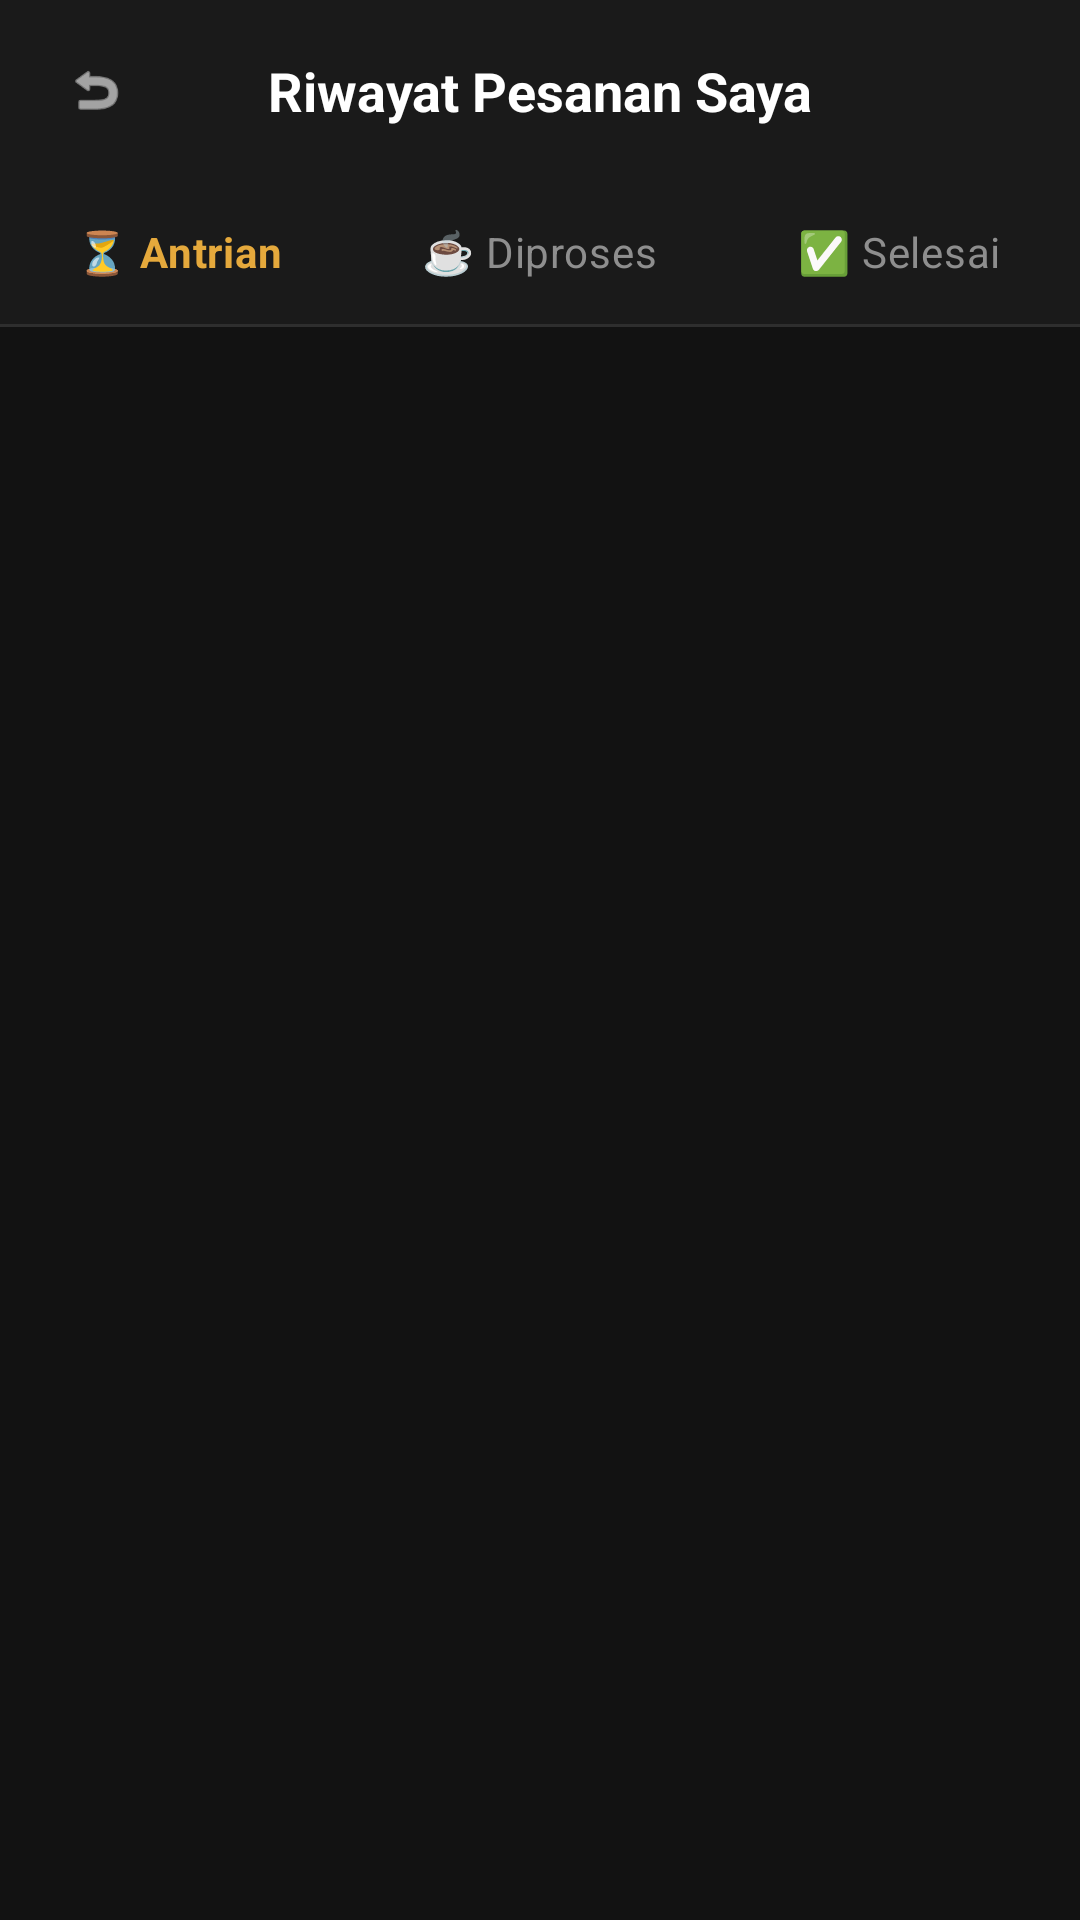

Screen size 1080 x 1920. Icon name, then its center in pixels as [x,y]:
revert: [96,90]
